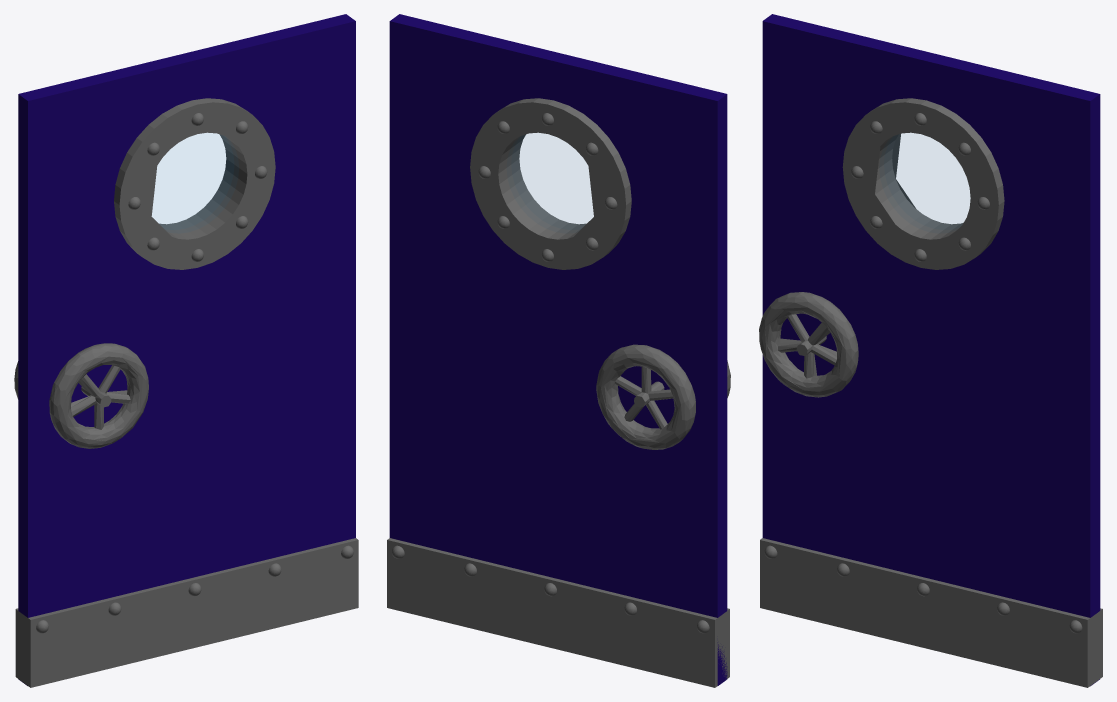
File: aquarium door.fbx
3 renders of one model, left to right at view 1: azimuth 30°, elevation 25°; view 2: azimuth 150°, elevation 25°; view 3: azimuth 330°, elevation 25°, orthographic.
Parts seen in each view (by area): view 1: Cube.001, Cube.003, Cylinder.001, Torus; view 2: Cube.001, Cube.003, Cylinder.001, Torus; view 3: Cube.001, Cube.003, Cylinder.001, Torus.
Boxes of the visible parts, left/top/right/bottom form: Cube.001: left=18, top=14, right=355, bottom=685; Cube.003: left=15, top=538, right=358, bottom=687; Cylinder.001: left=114, top=98, right=275, bottom=269; Torus: left=14, top=343, right=148, bottom=448; Cube.001: left=389, top=14, right=727, bottom=685; Cube.003: left=387, top=538, right=729, bottom=687; Cylinder.001: left=470, top=98, right=631, bottom=269; Torus: left=596, top=344, right=730, bottom=449; Cube.001: left=762, top=14, right=1100, bottom=686; Cube.003: left=760, top=538, right=1102, bottom=687; Cylinder.001: left=842, top=98, right=1004, bottom=269; Torus: left=759, top=292, right=858, bottom=397.
Size of the model in its own units: 1009 by 1721 by 258.
